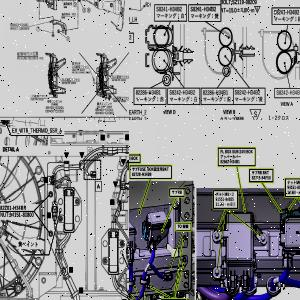PartNumber: (273, 8, 300, 15), (190, 6, 217, 13), (135, 89, 161, 96), (202, 89, 228, 96), (156, 6, 183, 12), (169, 90, 196, 96), (0, 204, 27, 210), (234, 89, 260, 95), (9, 212, 34, 218), (276, 89, 300, 95), (232, 0, 258, 5), (132, 171, 152, 177), (220, 158, 240, 164), (215, 196, 234, 202), (251, 175, 271, 180), (287, 183, 300, 190), (95, 111, 114, 115), (46, 109, 64, 113), (45, 106, 64, 109), (10, 23, 28, 26), (95, 108, 113, 111)
